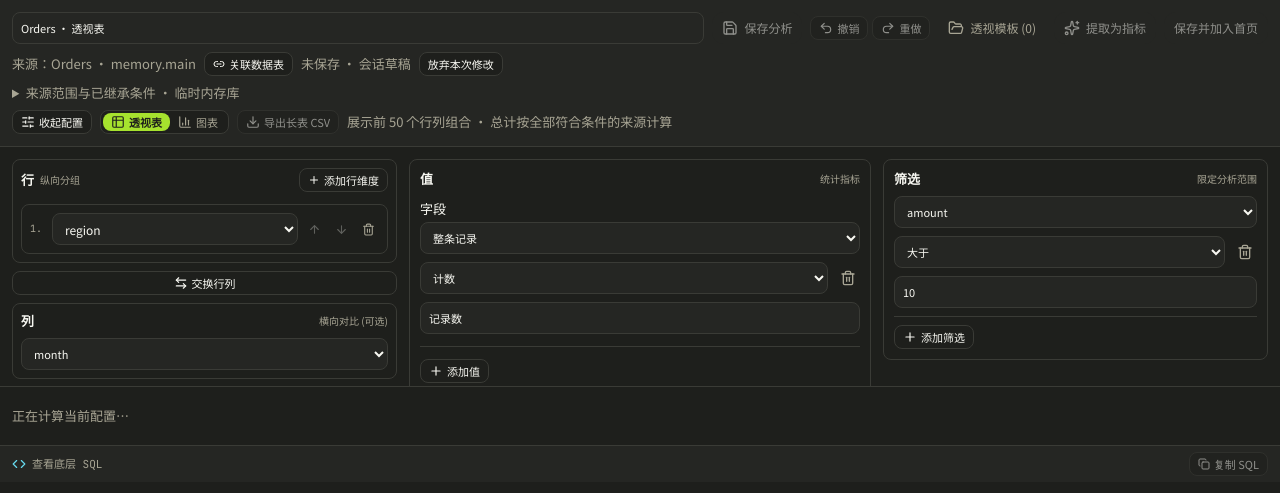
Test: pivot editor continuity › swaps both dimension definitions without dropping date grain, filters or measures
The width and height of the screenshot is (1280, 493).
Click the button "交换行列". click: [204, 283]
box: x1=12 y1=271 x2=397 y2=295
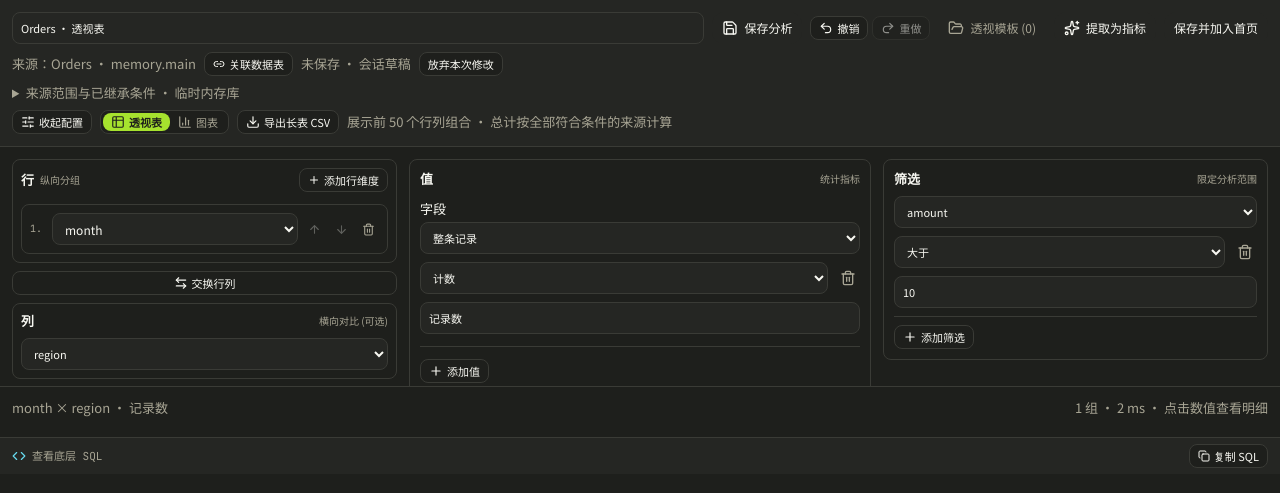
Check: the field named "筛选 1 值" holds "10", box x1=894 y1=276 x2=1257 y2=308
Check: the dropdown labelled "行" shows "month", box x1=52 y1=213 x2=298 y2=245
Check: the dropdown labelled "列" shows "region", box x1=21 y1=338 x2=388 y2=370
